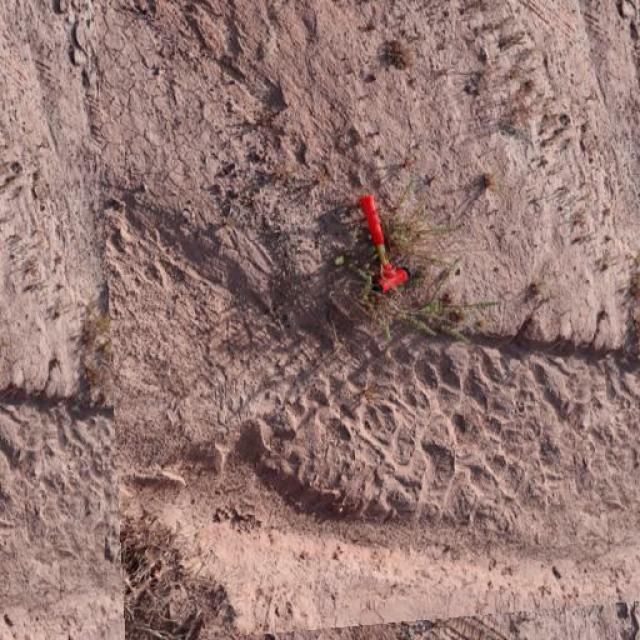mallet: (360, 191, 411, 294)
